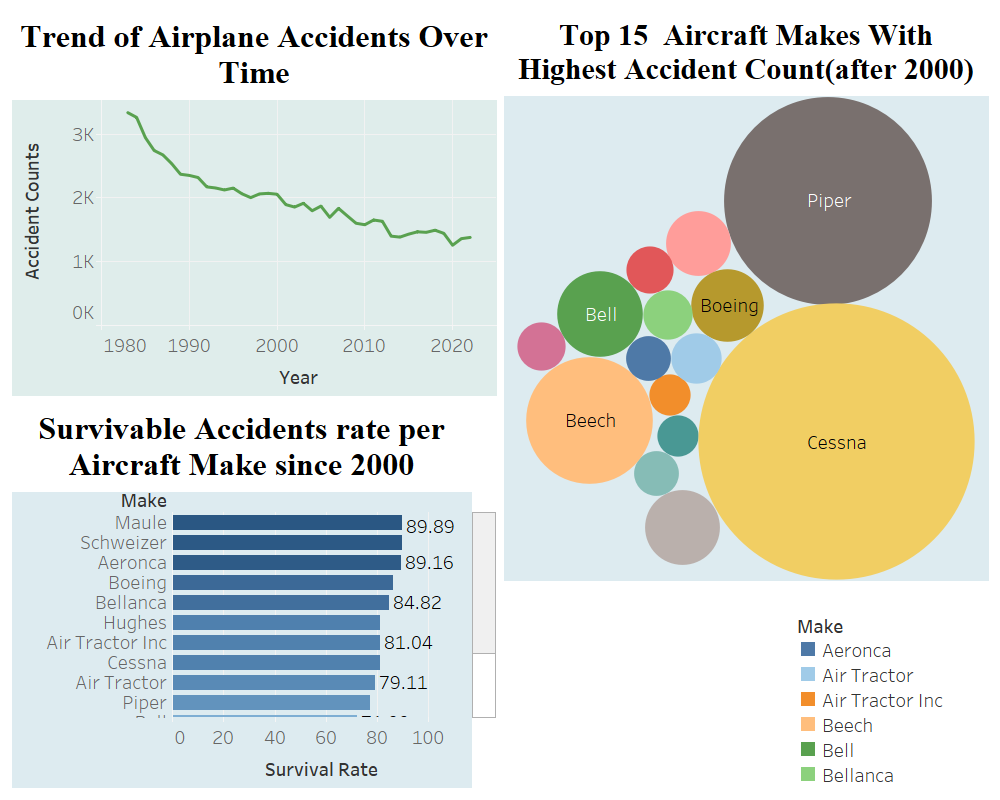

What the dashboard file says about the page in this screenshot:
{"tool":"tableau","page":{"name":"Dashboard 1","canvas":[1000,800],"ordinal":0},"visuals":[{"type":"worksheet","title":"Sheet 2","mark":"Automatic","rows":["Accident_Counts"],"cols":["Year"],"box":[8,8,492,392]},{"type":"worksheet","title":"Sheet 4","mark":"Circle","box":[500,8,492,784]},{"type":"worksheet","title":"Sheet 3","mark":"Automatic","rows":["Make"],"cols":["Survival Rate"],"box":[8,400,492,392]},{"type":"legend","title":"Sheet 4","param":"[federated.0k1eiwr04va3q71eesswo0ihr149].[none:Make:nk]","box":[544,619,154,137]}]}

Visuals, with their boxes in screenshot pixels (x1, y1, x2, y2), scaled from the page's 1000x800 canvas onto the 1000x800 screenshot:
"Sheet 2" worksheet: {"left": 8, "top": 8, "right": 500, "bottom": 400}
"Sheet 4" worksheet (Circle marks): {"left": 500, "top": 8, "right": 992, "bottom": 792}
"Sheet 3" worksheet: {"left": 8, "top": 400, "right": 500, "bottom": 792}
"Sheet 4" legend: {"left": 544, "top": 619, "right": 698, "bottom": 756}
